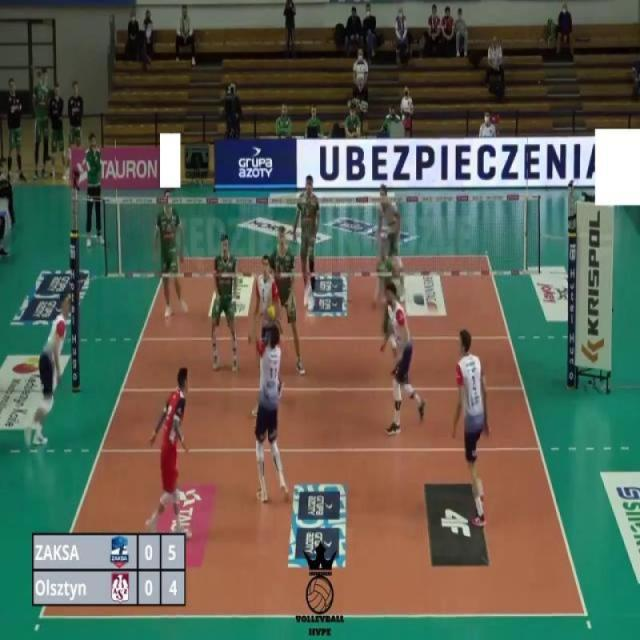volleyball: (266, 304, 276, 323)
